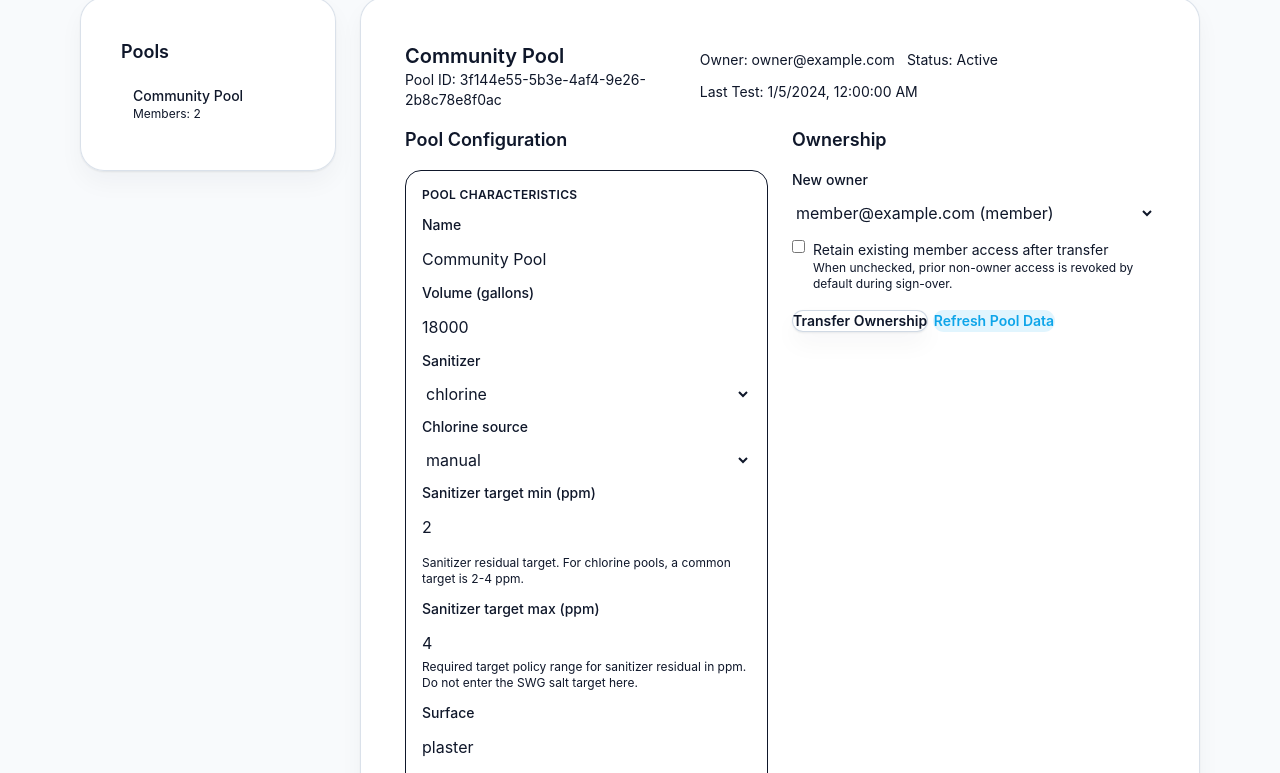
Scenario: admin pools page › updates metadata and refreshes the directory
Replace the text in the field labelled "Name" with "Updated Community Pool" at (586, 259), box 422,247 -> 751,271
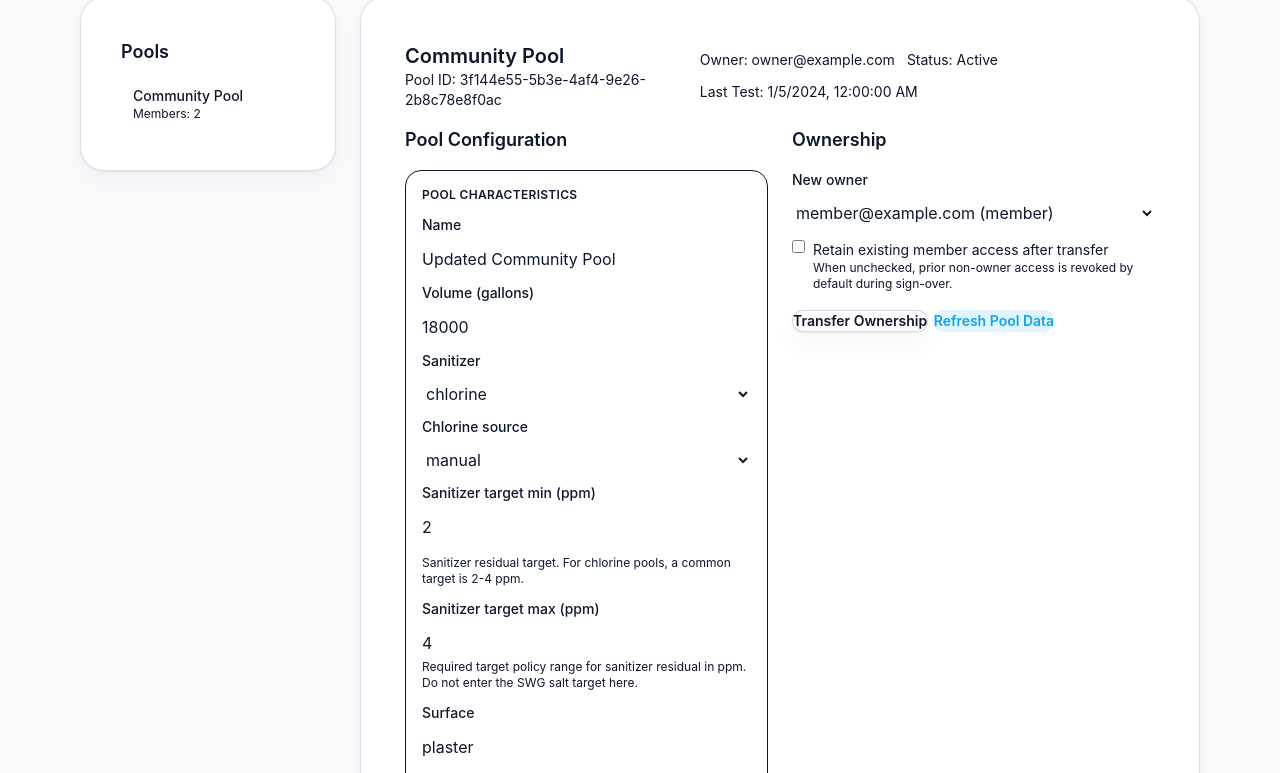
Replace the text in the number field labelled "Volume (gallons)" with "19000" at (586, 327), box 422,315 -> 751,339
(page scrolled)
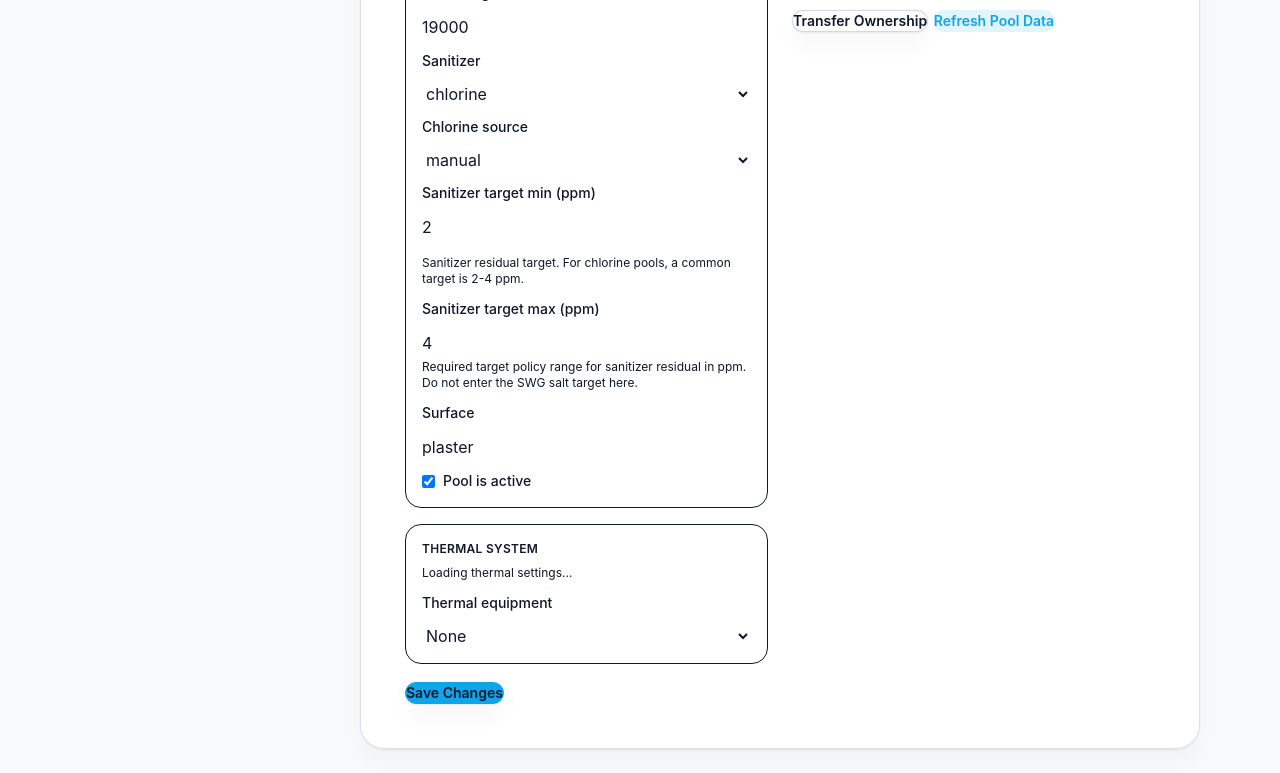
Click the checkbox labelled "Pool is active".
click(428, 481)  # box 422,474 -> 435,488
(page scrolled)
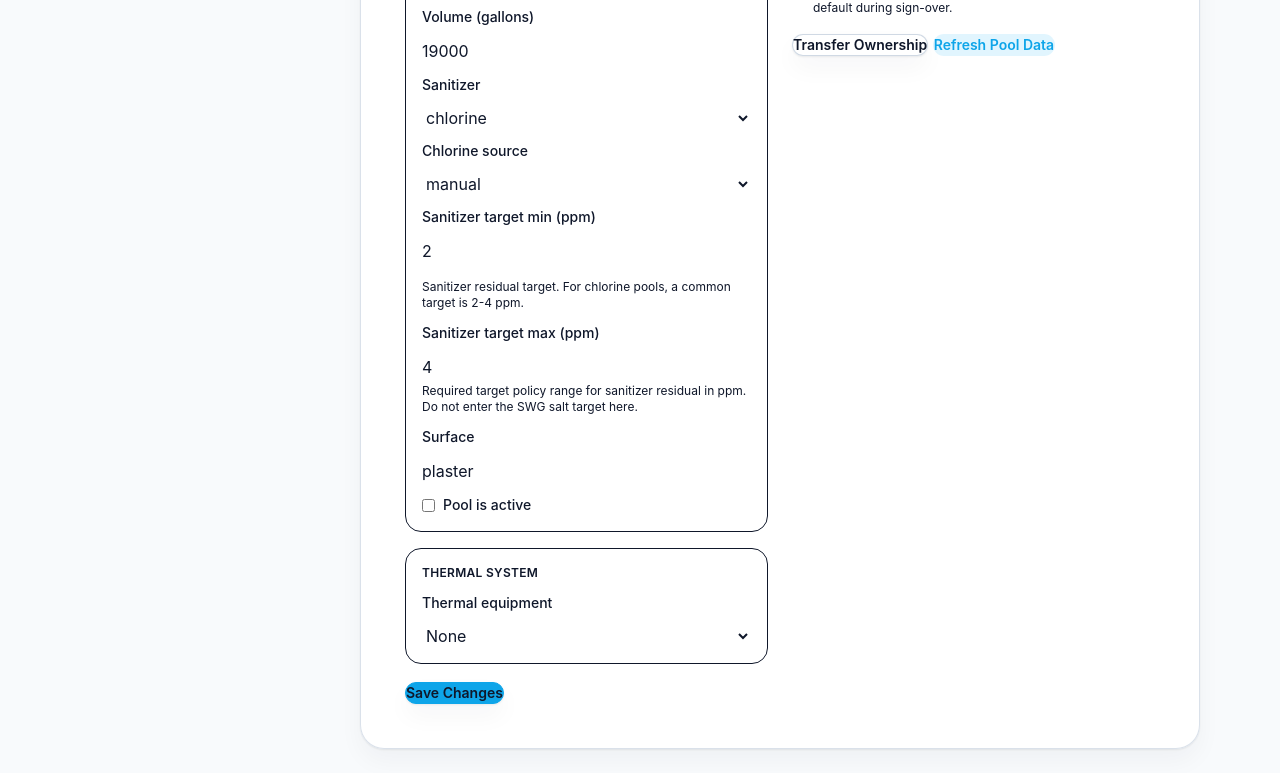
Click the button "Save Changes".
click(454, 693)  # box 405,682 -> 504,704
(page scrolled)
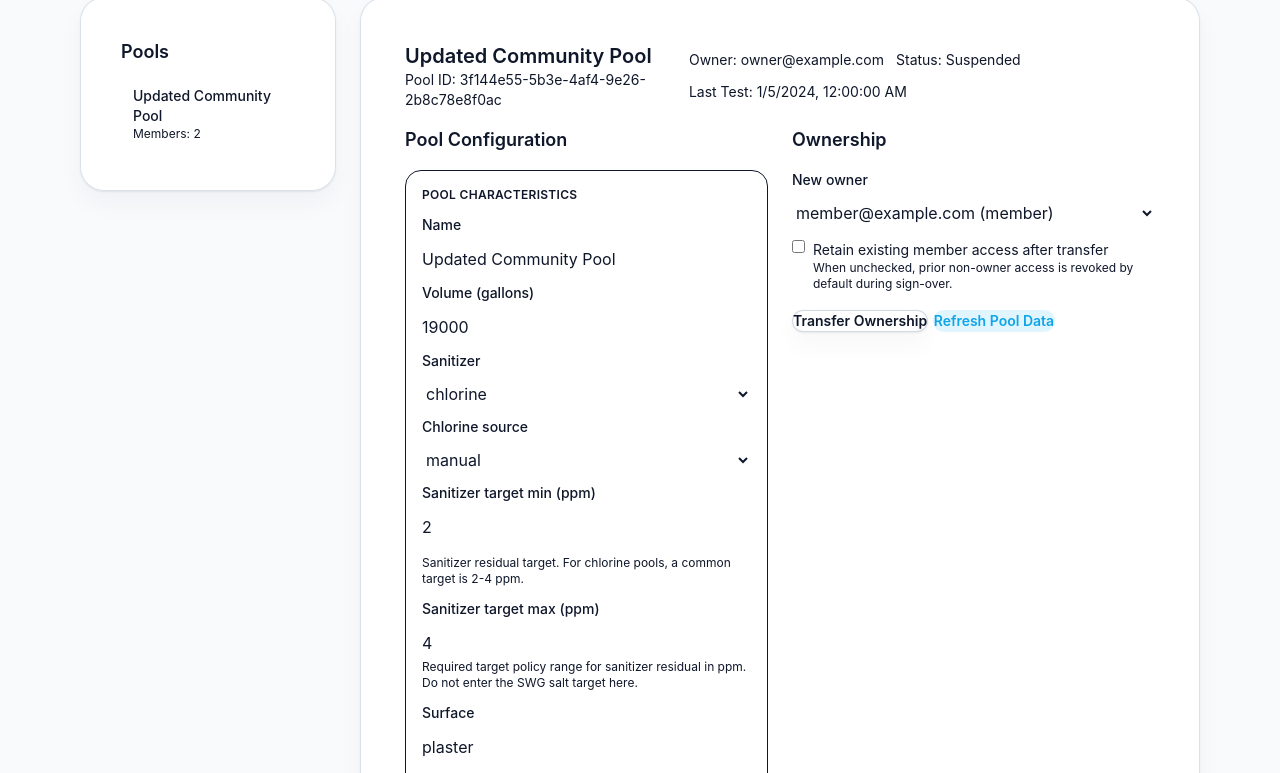
Expected: the button "Updated Community Pool Members: 2" is shown, 121,78 -> 295,150
